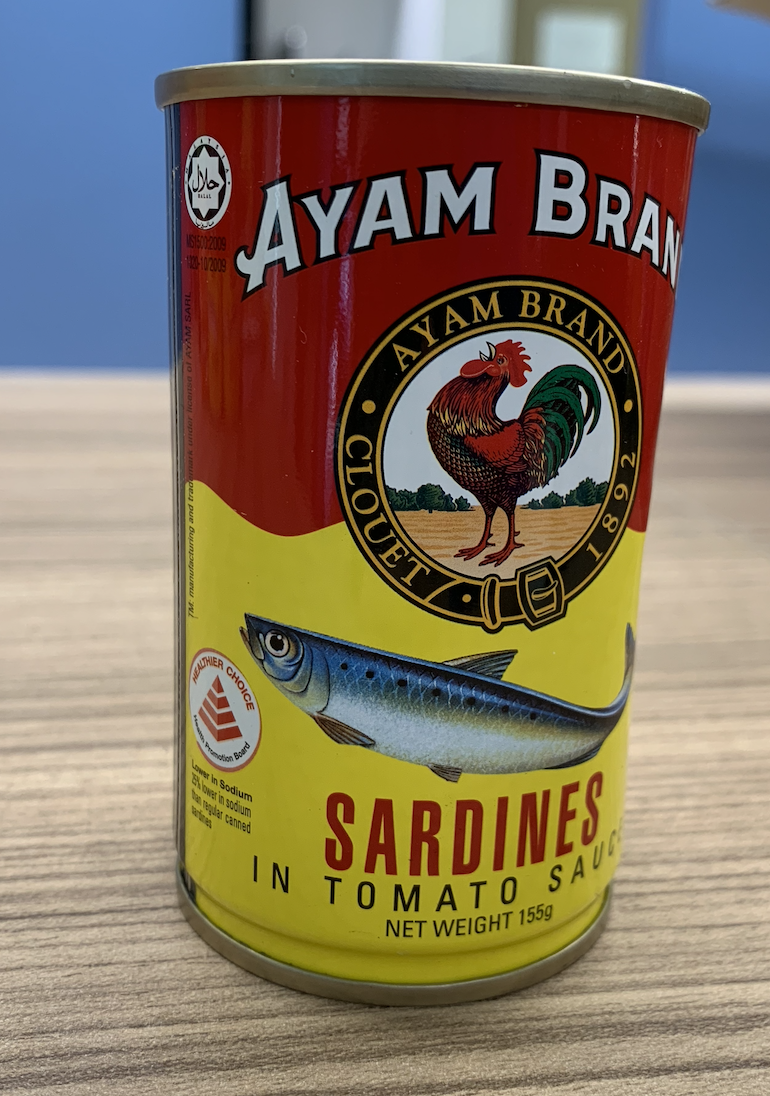sardines_100g-199g: (187, 123, 623, 944)
